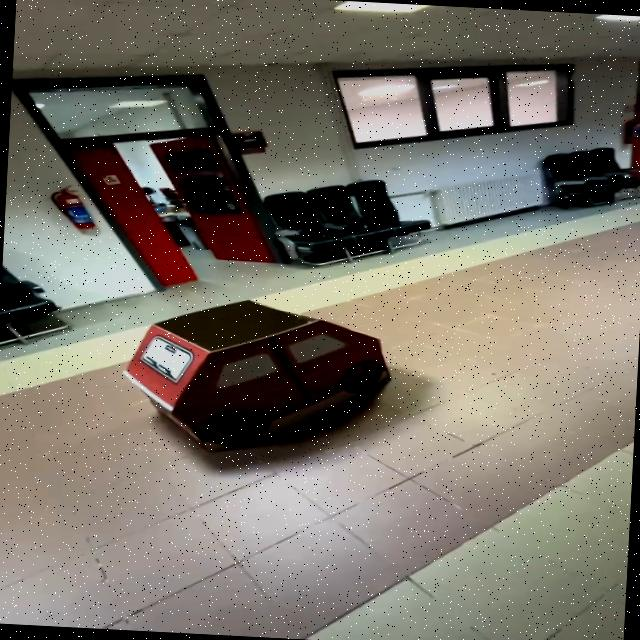red_car: (87, 276, 429, 471)
